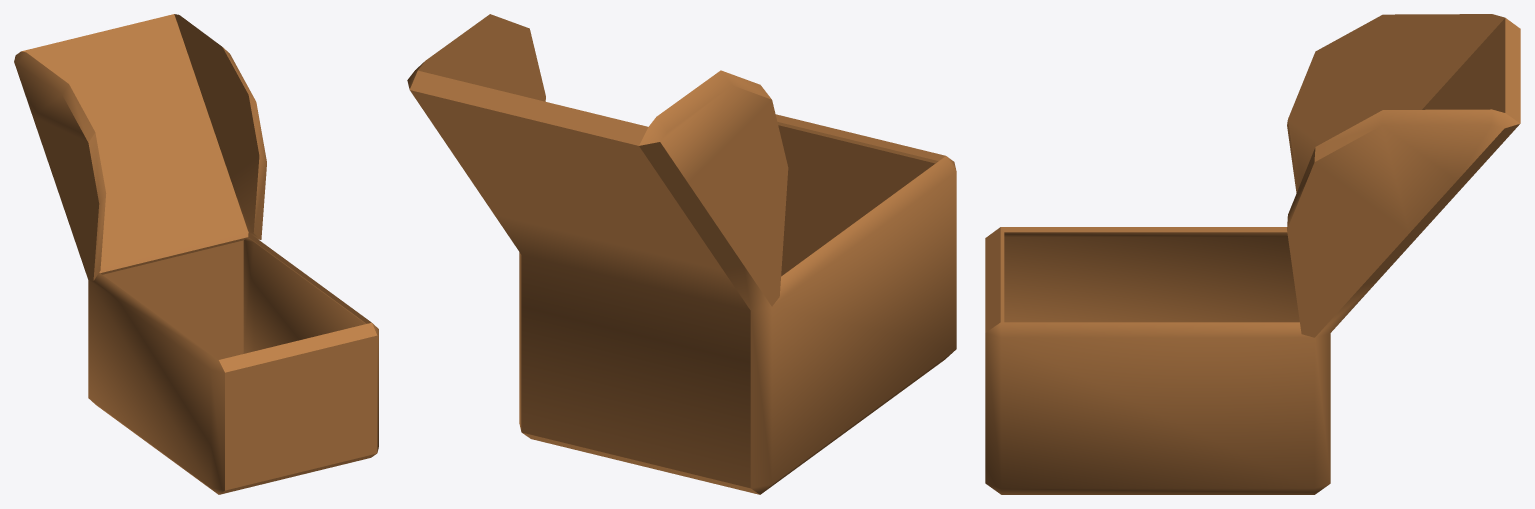
The picture shows the model from 3 angles, left to right: view 1: azimuth 30°, elevation 25°; view 2: azimuth 150°, elevation 25°; view 3: azimuth 270°, elevation 25°; orthographic projection. The views are drawn at different scales.
Visible parts, largest first — view 1: box3; view 2: box3; view 3: box3.
Part boxes in pixels (x1,y1,x2,y2): box3: (14, 14, 378, 494); box3: (407, 14, 956, 494); box3: (985, 14, 1520, 494).
Bounding box in the file's own units: 149 × 257 × 323.
